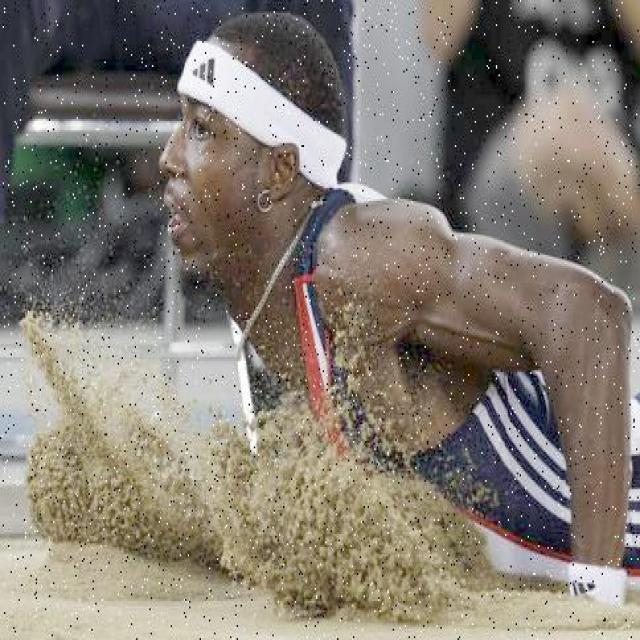fall: (166, 37, 638, 614)
